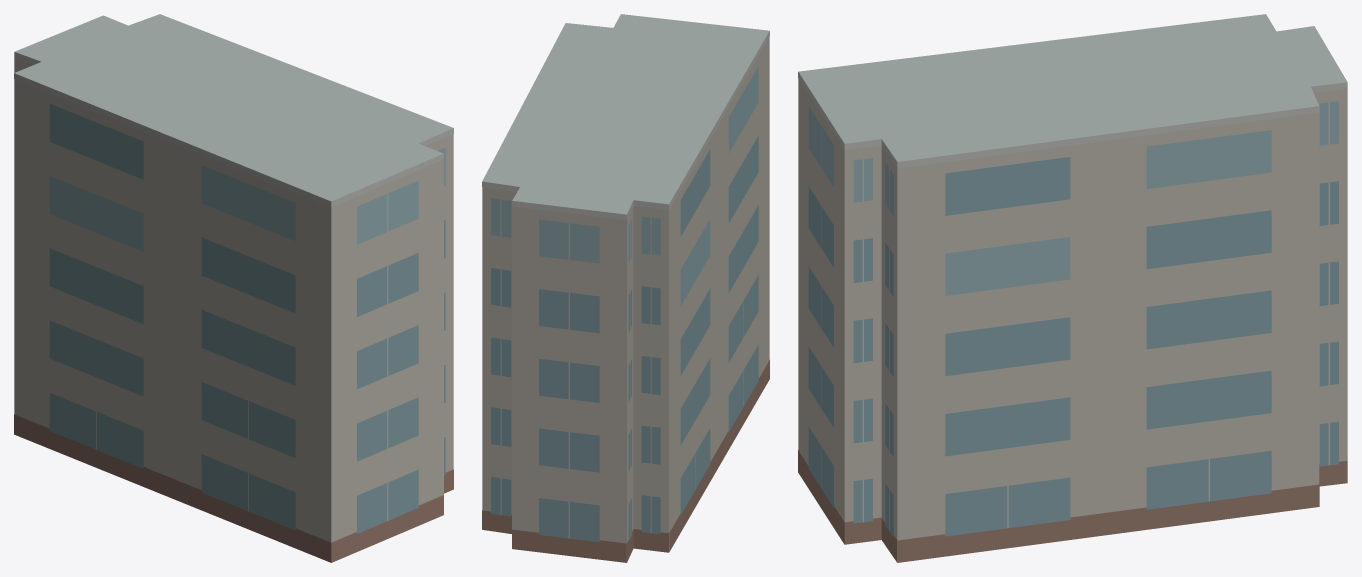
File: survey-upis-32873264.glb
The picture shows the model from 3 angles, left to right: view 1: azimuth 30°, elevation 25°; view 2: azimuth 150°, elevation 25°; view 3: azimuth 270°, elevation 25°; orthographic projection. The views are drawn at different scales.
Parts seen in each view (by area): view 1: survey-upis-32873264.tmp; view 2: survey-upis-32873264.tmp; view 3: survey-upis-32873264.tmp.
Part boxes in pixels (box(x1,y1,x2,y2)): survey-upis-32873264.tmp: box(14, 14, 453, 562); survey-upis-32873264.tmp: box(482, 14, 769, 562); survey-upis-32873264.tmp: box(798, 14, 1347, 562).
Bounding box in the file's own units: 12.09 × 15.25 × 18.96.
